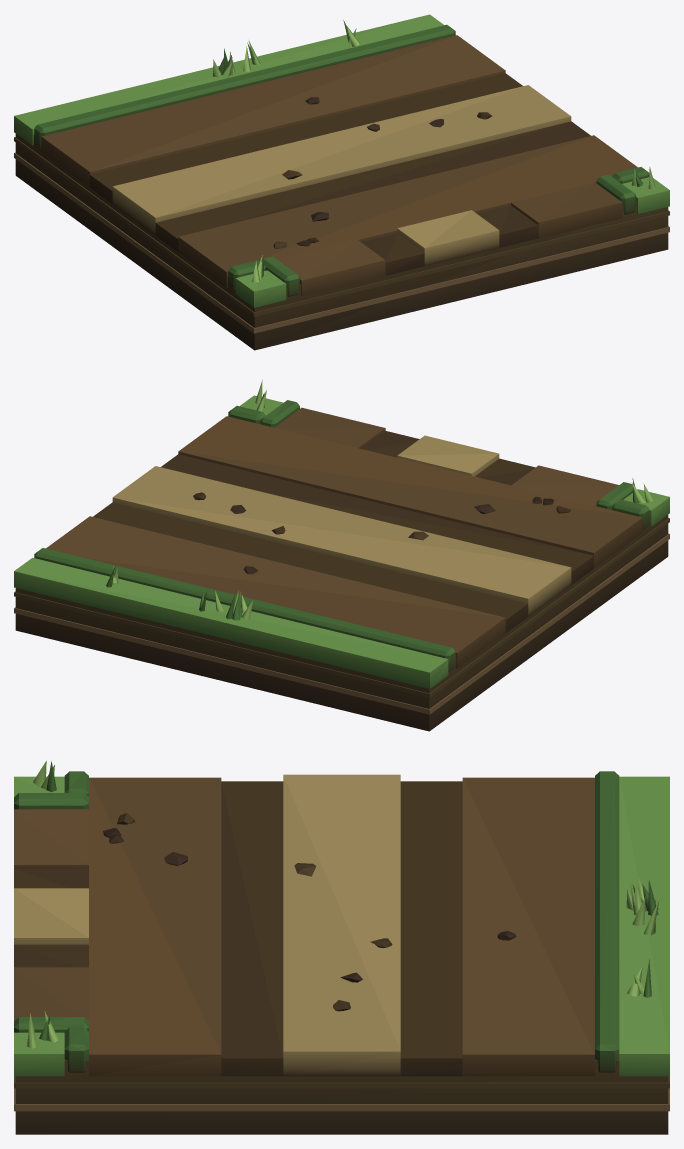
The model's file is track-t.glb.
3 views of the same model, one above another, from view 1: azimuth 30°, elevation 25°; view 2: azimuth 150°, elevation 25°; view 3: azimuth 270°, elevation 25° (orthographic). The views are drawn at different scales.
Parts seen in each view (by area): view 1: track_t; view 2: track_t; view 3: track_t.
Part boxes in pixels (box(x1,y1,x2,y2)): track_t: box(14, 14, 669, 350); track_t: box(14, 380, 669, 731); track_t: box(14, 761, 669, 1134).
Size of the model in its own units: 4.02 by 0.7774 by 4.02.
